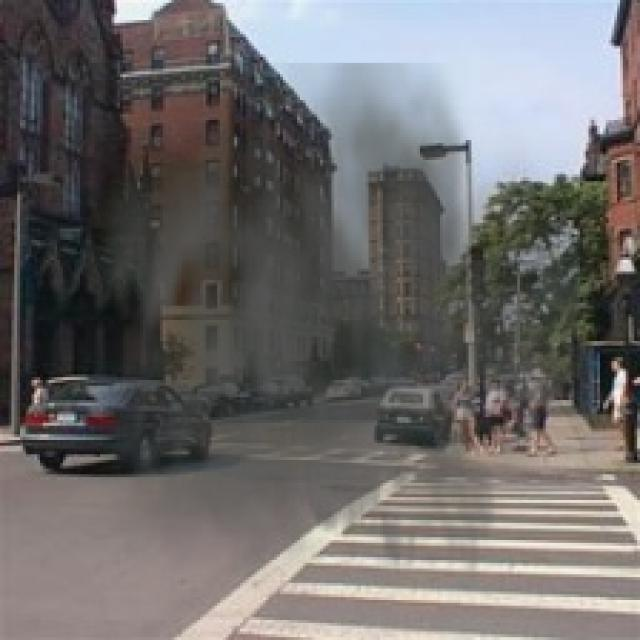Smoke: (57, 63, 580, 632)
